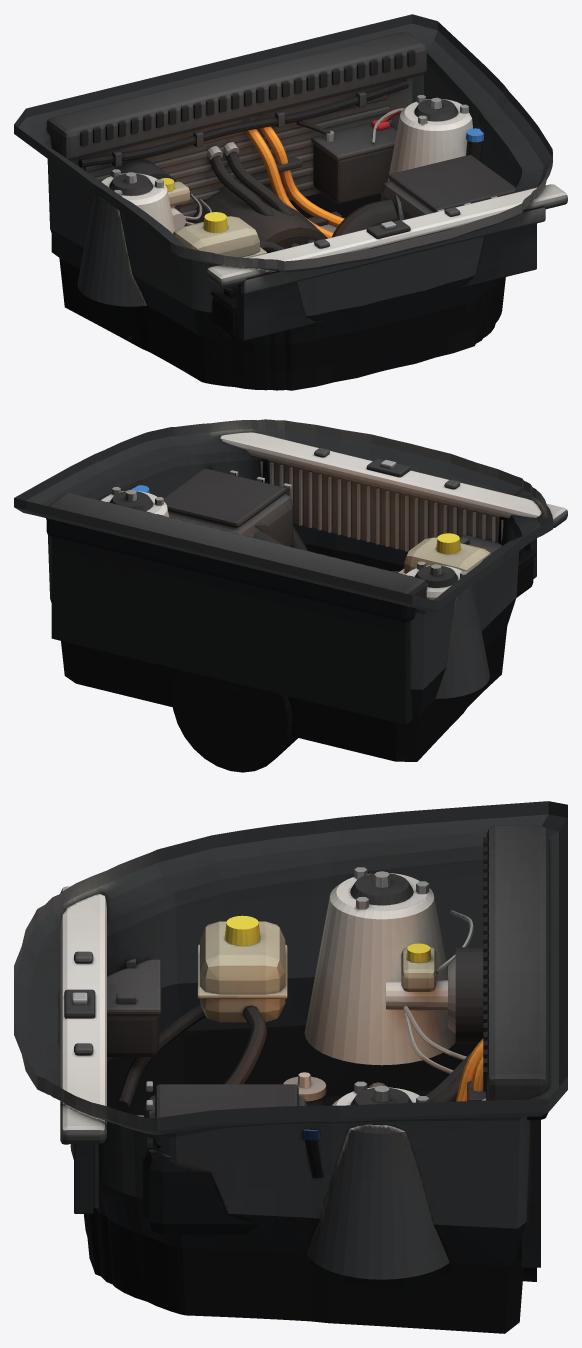
Rendered from bay.glb.
3 renders of one model, top to bottom at view 1: azimuth 30°, elevation 25°; view 2: azimuth 150°, elevation 25°; view 3: azimuth 270°, elevation 25°, orthographic. The views are drawn at different scales.
Parts seen in each view (by area): view 1: BayKit; view 2: BayKit; view 3: BayKit.
Part boxes in pixels (x1,y1,x2,y2): BayKit: (14, 14, 567, 390); BayKit: (14, 419, 567, 772); BayKit: (14, 801, 567, 1333).
Bounding box in the file's own units: 1.82 × 0.947 × 1.43.
1 material, 1 textured.
